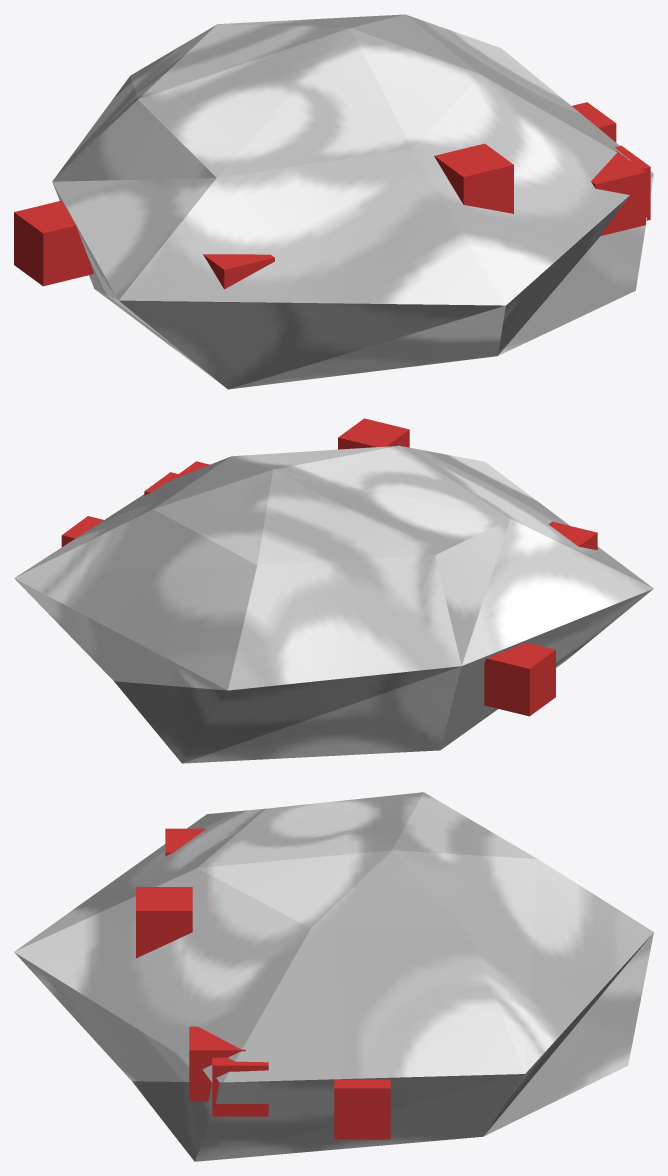
The model's file is strawberry_1.obj.
3 renders of one model, top to bottom at view 1: azimuth 30°, elevation 25°; view 2: azimuth 150°, elevation 25°; view 3: azimuth 270°, elevation 25°, orthographic. The views are drawn at different scales.
Parts seen in each view (by area): view 1: strawberry_1; view 2: strawberry_1; view 3: strawberry_1.
Boxes of the visible parts, x1,y1,x2,y2 form: strawberry_1: (14,14,653,389); strawberry_1: (14,418,653,763); strawberry_1: (14,792,653,1161).
Size of the model in its own units: 0.5578 by 0.22 by 0.5671.
